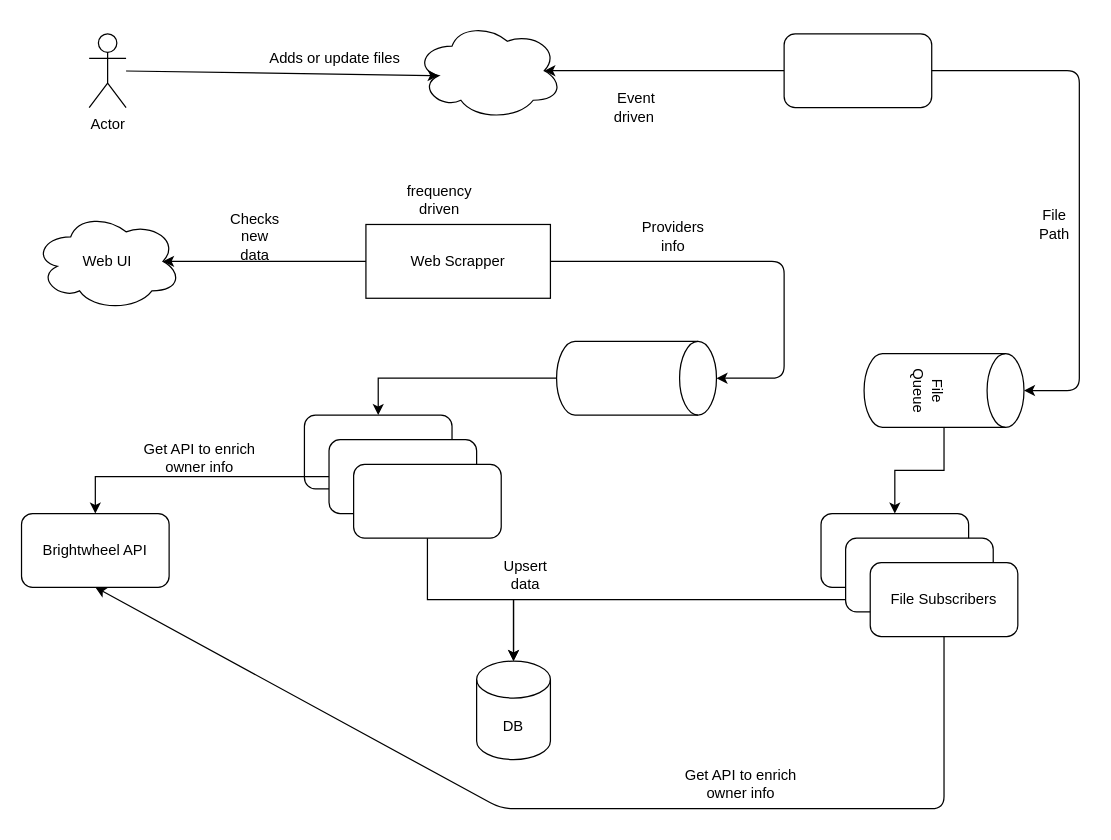
The diagram is 1111 pixels wide and 840 high, and some of its shapes have lost their labels. Here are the shapes that lost their labels. From the top down, the centre of each, then its label:
pixel 488 70: S3 bucket
pixel 857 70: AWS Lambda
pixel 635 377: Web Queue
pixel 426 500: Web events subscribers
